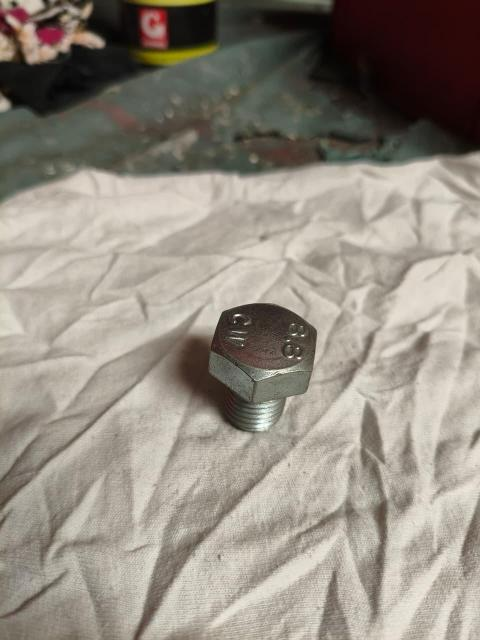Metal: (215, 300, 335, 442)
